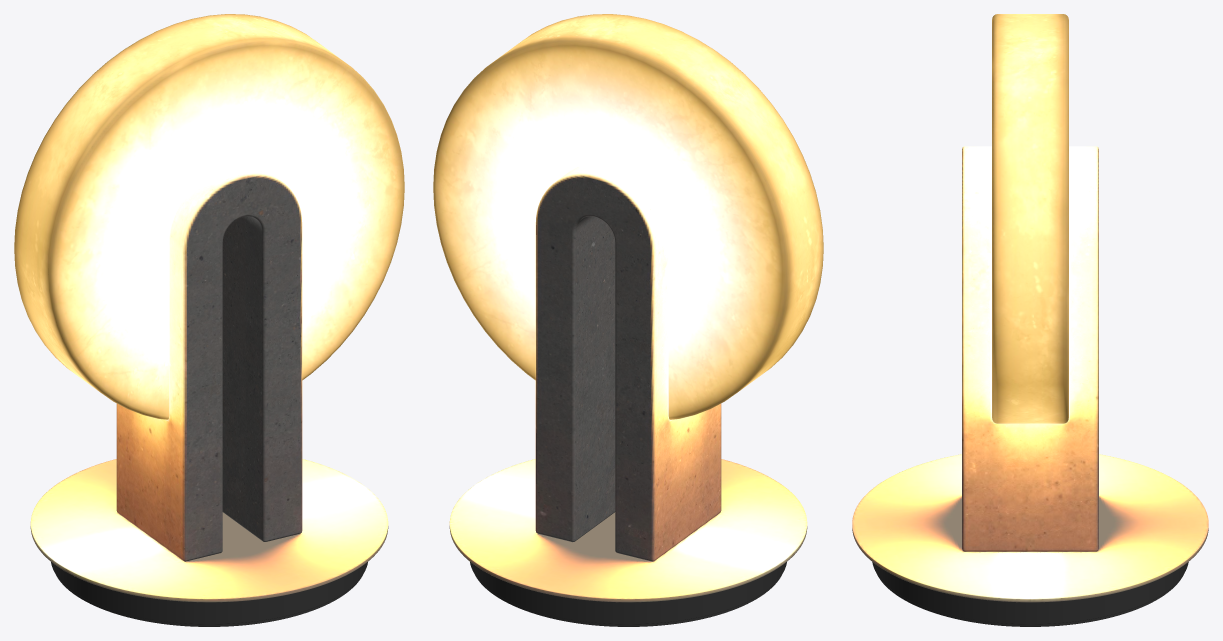
The model's file is lamp64561.glb.
3 views of the same model, side by side, from view 1: azimuth 30°, elevation 25°; view 2: azimuth 150°, elevation 25°; view 3: azimuth 270°, elevation 25° (orthographic).
Parts seen in each view (by area): view 1: lamp64561; view 2: lamp64561; view 3: lamp64561.
Part boxes in pixels (x1,y1,x2,y2): lamp64561: (14, 14, 404, 626); lamp64561: (433, 14, 823, 626); lamp64561: (852, 14, 1208, 626).
Bounding box in the file's own units: 0.3048 × 0.4327 × 0.265.
2 materials, 2 textured.
